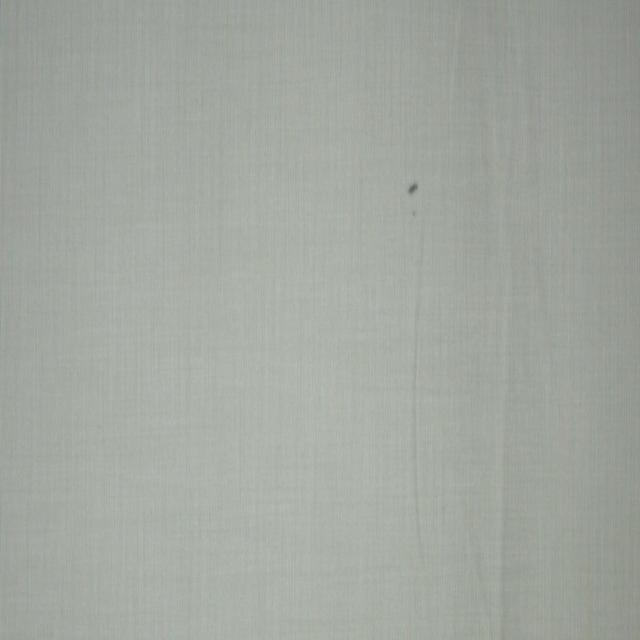dirty: (408, 182, 418, 196)
